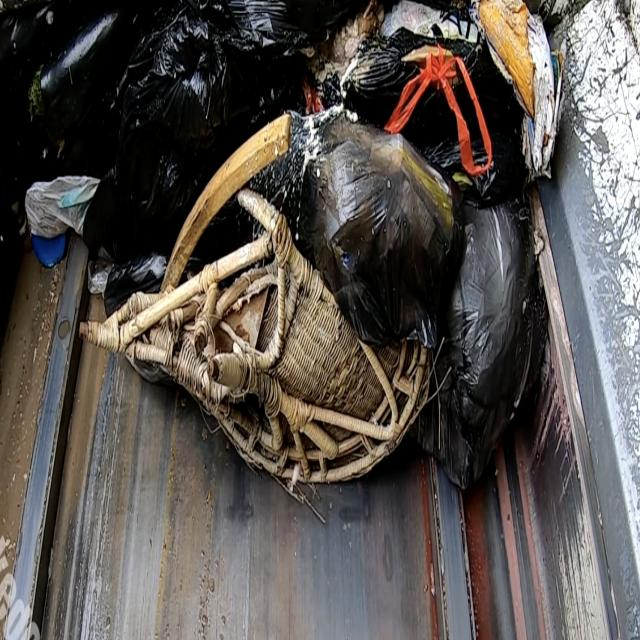bag: (434, 189, 553, 559), (49, 15, 263, 183), (364, 11, 519, 208)
furniture: (104, 178, 459, 506)
